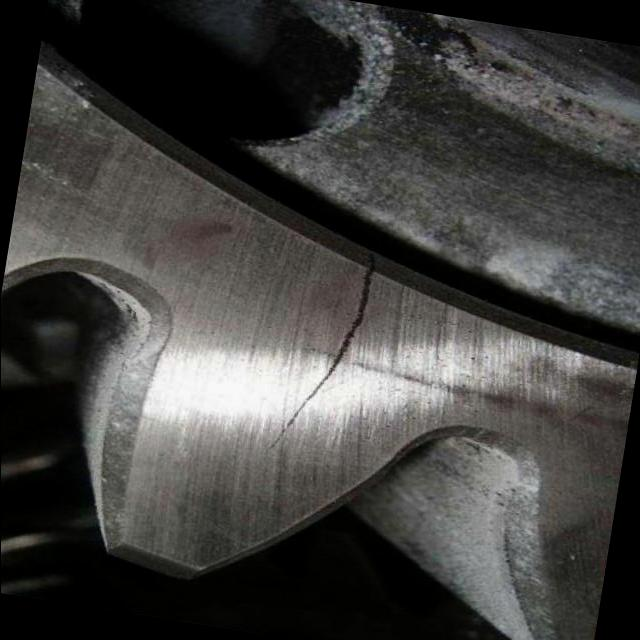defect: (263, 245, 380, 454)
